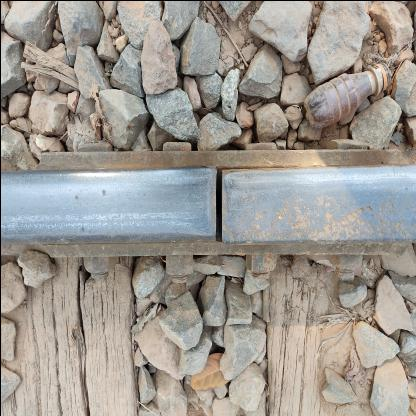Non Defective 2: (178, 148, 250, 264)
Non Defective 3: (25, 233, 394, 298)
